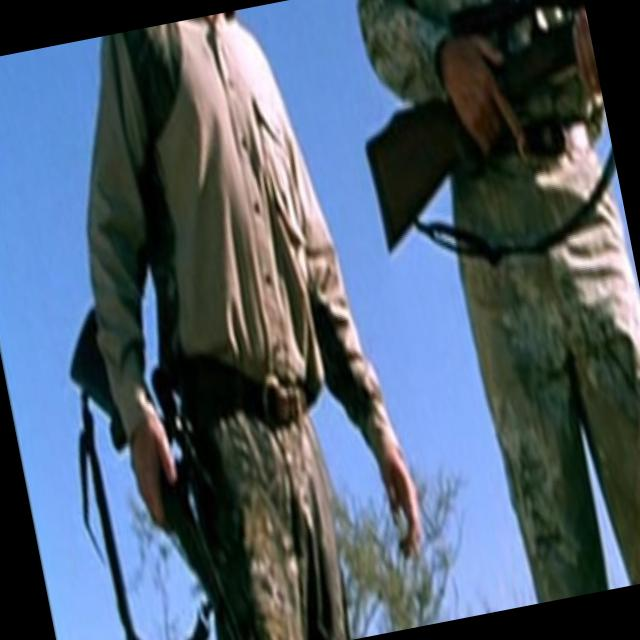Guns: (33, 233, 254, 640), (322, 0, 623, 249)
